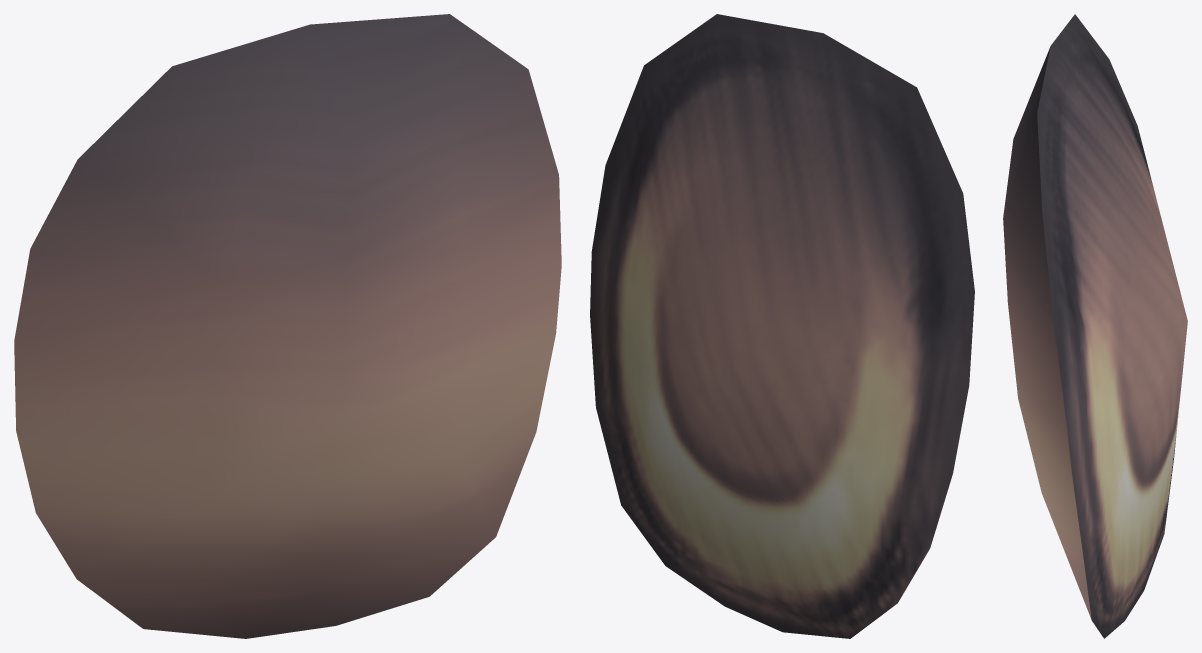
File: Eye_02_R.fbx
The picture shows the model from 3 angles, left to right: view 1: azimuth 30°, elevation 25°; view 2: azimuth 150°, elevation 25°; view 3: azimuth 270°, elevation 25°; orthographic projection. The views are drawn at different scales.
Parts seen in each view (by area): view 1: Eye_02_R_Cover; view 2: Eye_02_R; view 3: Eye_02_R, Eye_02_R_Cover.
Part boxes in pixels (<box>): Eye_02_R_Cover: <box>14,14,561,638</box>; Eye_02_R: <box>590,14,974,638</box>; Eye_02_R: <box>1037,14,1187,638</box>; Eye_02_R_Cover: <box>1003,47,1091,619</box>.
Size of the model in its own units: 5.17 by 6.55 by 2.
1 material, 1 textured.
